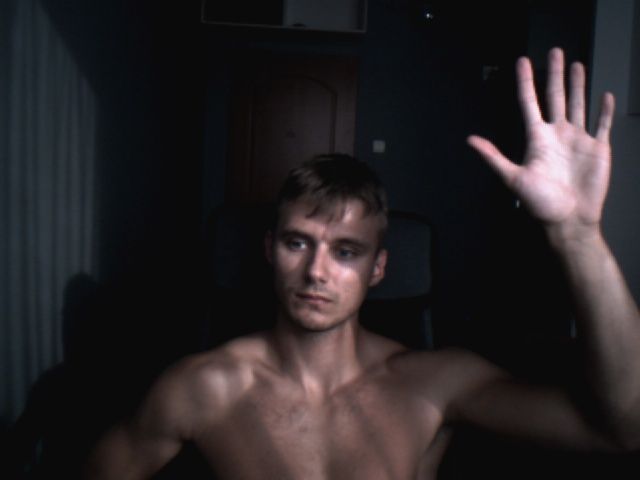open: (466, 45, 615, 221)
